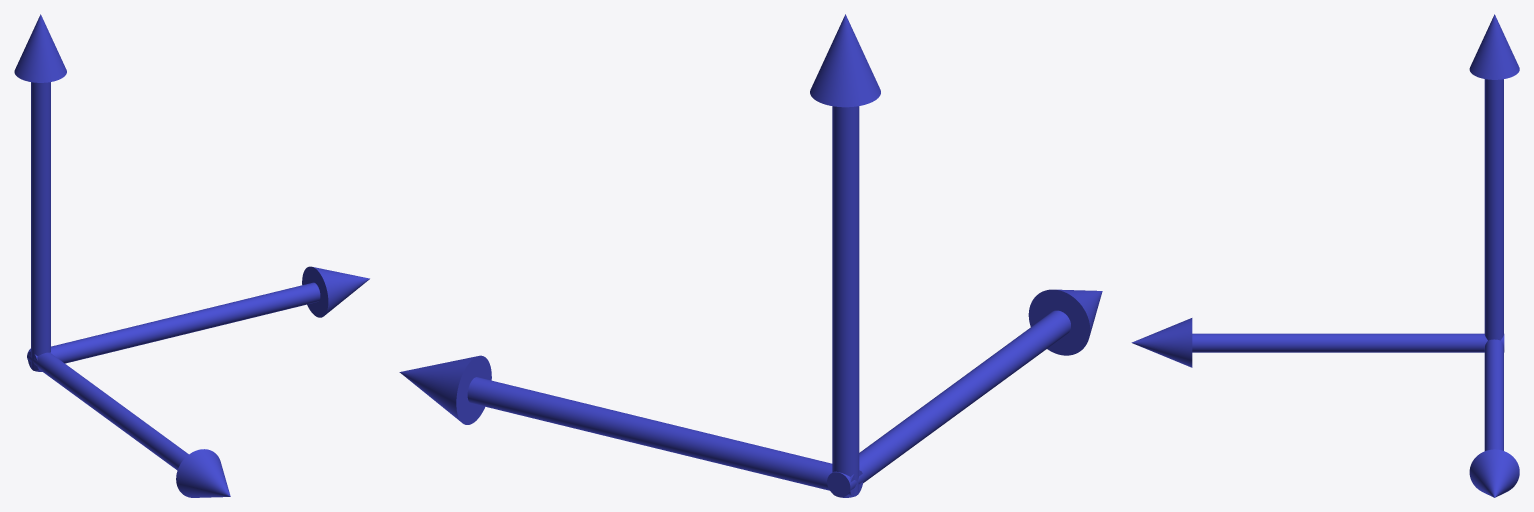
File: 3d-coord.fbx
3 views of the same model, side by side, from view 1: azimuth 30°, elevation 25°; view 2: azimuth 150°, elevation 25°; view 3: azimuth 270°, elevation 25° (orthographic). The views are drawn at different scales.
Visible parts, largest first — view 1: node_id260, node_id269, node_id278, node_id274, node_id265, node_id256; view 2: node_id269, node_id260, node_id278, node_id265, node_id256, node_id274; view 3: node_id278, node_id269, node_id260, node_id265, node_id256, node_id274.
Boxes of the visible parts, x1,y1,x2,y2 form: node_id260: (28, 282, 320, 370); node_id269: (31, 82, 50, 371); node_id278: (27, 348, 188, 470); node_id274: (176, 449, 230, 497); node_id265: (14, 14, 66, 82); node_id256: (302, 266, 369, 317); node_id269: (832, 106, 859, 497); node_id260: (467, 377, 863, 496); node_id278: (827, 310, 1070, 497); node_id265: (810, 14, 880, 107); node_id256: (399, 355, 491, 424); node_id274: (1028, 289, 1102, 355); node_id278: (1192, 333, 1504, 352); node_id269: (1484, 79, 1503, 340); node_id260: (1484, 339, 1503, 450); node_id265: (1469, 14, 1519, 79); node_id256: (1469, 449, 1519, 497); node_id274: (1131, 318, 1192, 367).
Bounding box in the file's own units: 0.5047 × 0.5048 × 0.5038.
Materials: 12 (12 with a texture image).
